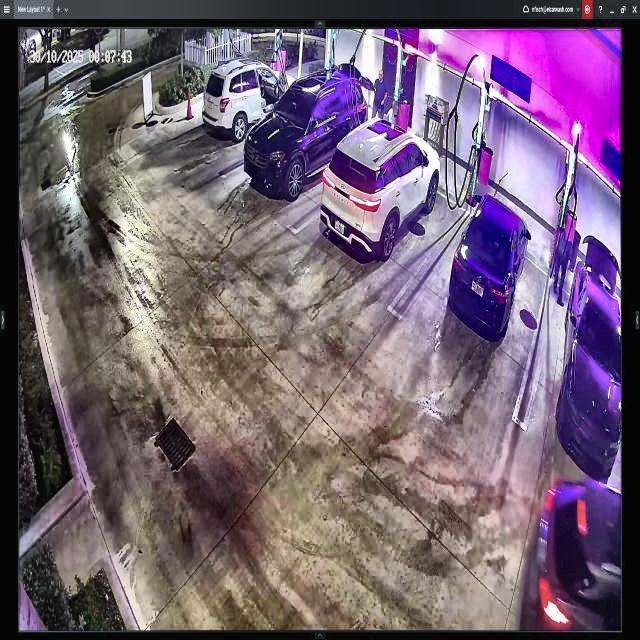Car: (322, 117, 442, 253), (244, 71, 368, 191), (450, 196, 529, 334), (202, 63, 294, 143)
